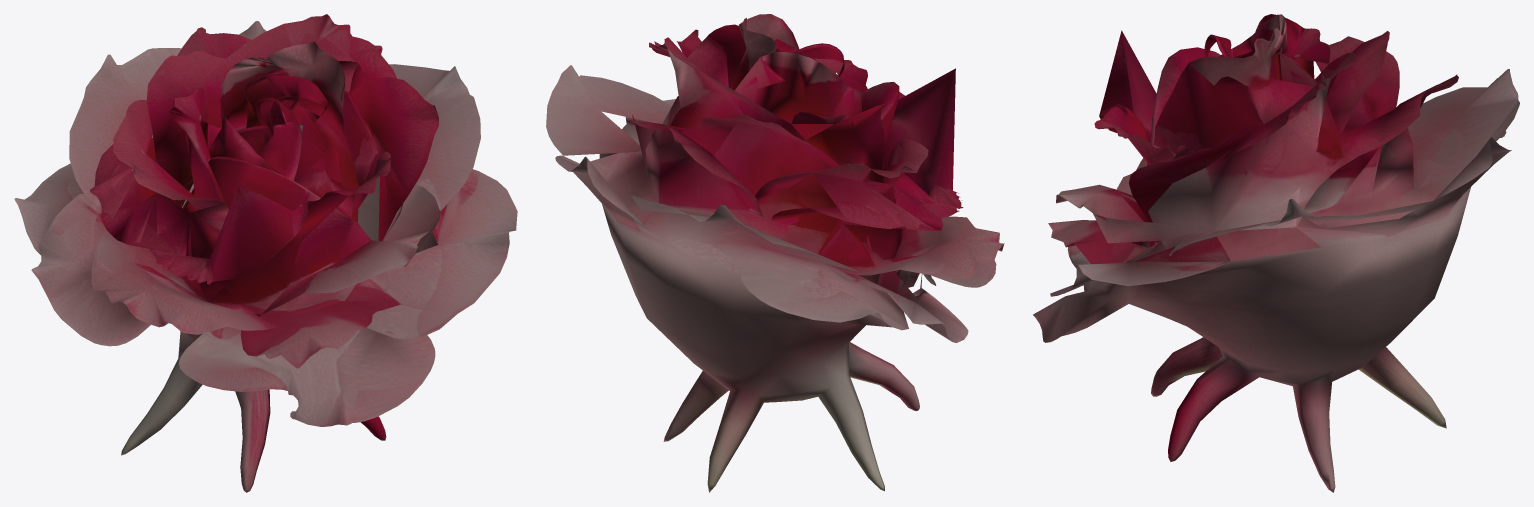
File: bloodblossom.glb
3 views of the same model, side by side, from view 1: azimuth 30°, elevation 25°; view 2: azimuth 150°, elevation 25°; view 3: azimuth 270°, elevation 25° (orthographic). The views are drawn at different scales.
Visible parts, largest first — view 1: tripo_node_3b15d54c-b743-41f5-b891-189d65b87bcb; view 2: tripo_node_3b15d54c-b743-41f5-b891-189d65b87bcb; view 3: tripo_node_3b15d54c-b743-41f5-b891-189d65b87bcb.
Part boxes in pixels (<box>): tripo_node_3b15d54c-b743-41f5-b891-189d65b87bcb: <box>14,14,517,492</box>; tripo_node_3b15d54c-b743-41f5-b891-189d65b87bcb: <box>546,14,1004,492</box>; tripo_node_3b15d54c-b743-41f5-b891-189d65b87bcb: <box>1033,14,1519,492</box>.
Bounding box in the file's own units: 0.792 × 0.751 × 0.7696.
1 material, 1 textured.
